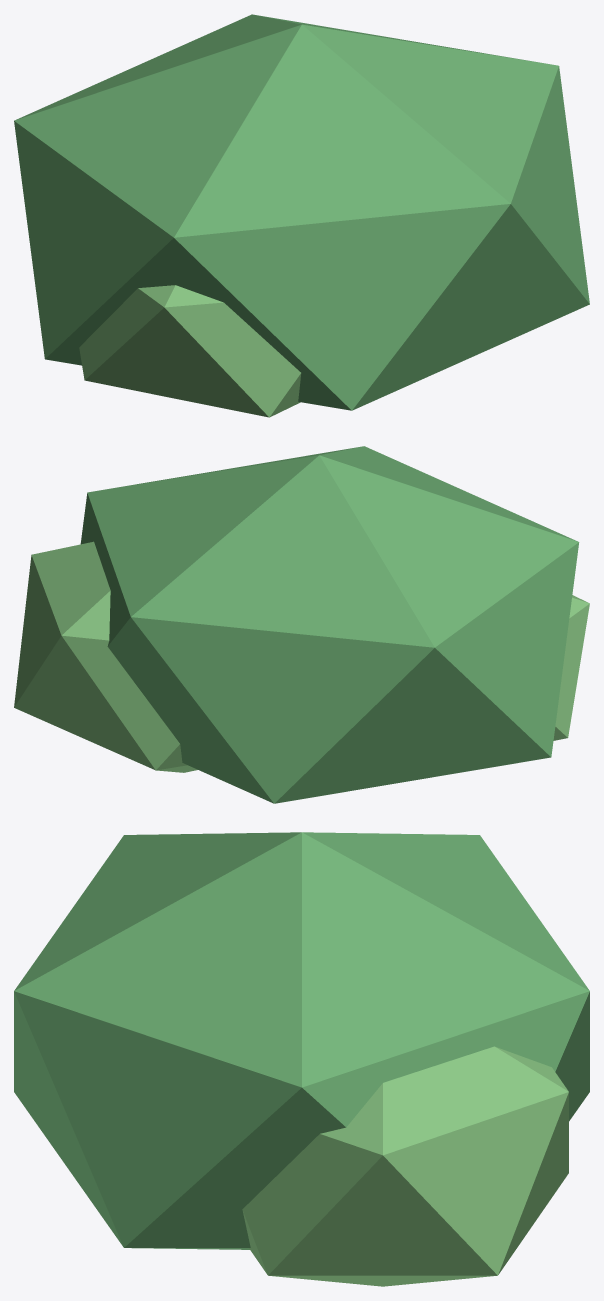
The model's file is BushMeadow.glb.
3 renders of one model, top to bottom at view 1: azimuth 30°, elevation 25°; view 2: azimuth 150°, elevation 25°; view 3: azimuth 270°, elevation 25°, orthographic. The views are drawn at different scales.
Visible parts, largest first — view 1: BushMeadow; view 2: BushMeadow; view 3: BushMeadow.
Part boxes in pixels (<box>): BushMeadow: <box>14,14,589,417</box>; BushMeadow: <box>14,446,589,803</box>; BushMeadow: <box>14,832,589,1286</box>.
Size of the model in its own units: 2.14 by 1.42 by 1.78.
